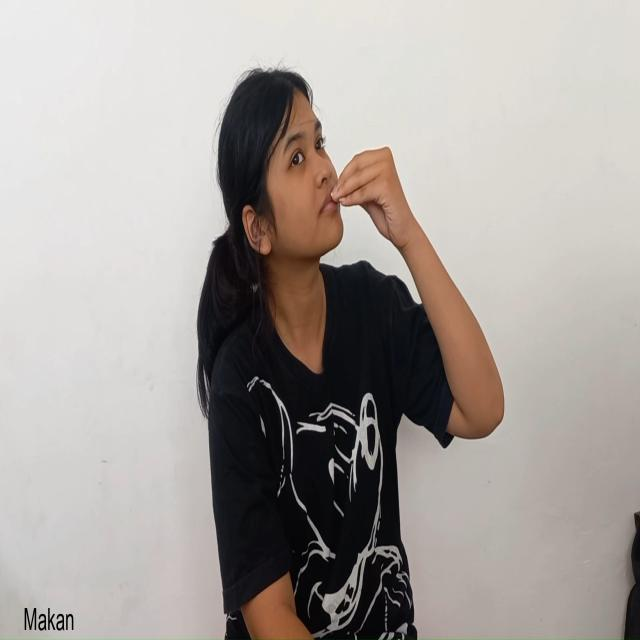Makan -BISINDO-: (232, 56, 478, 370)
